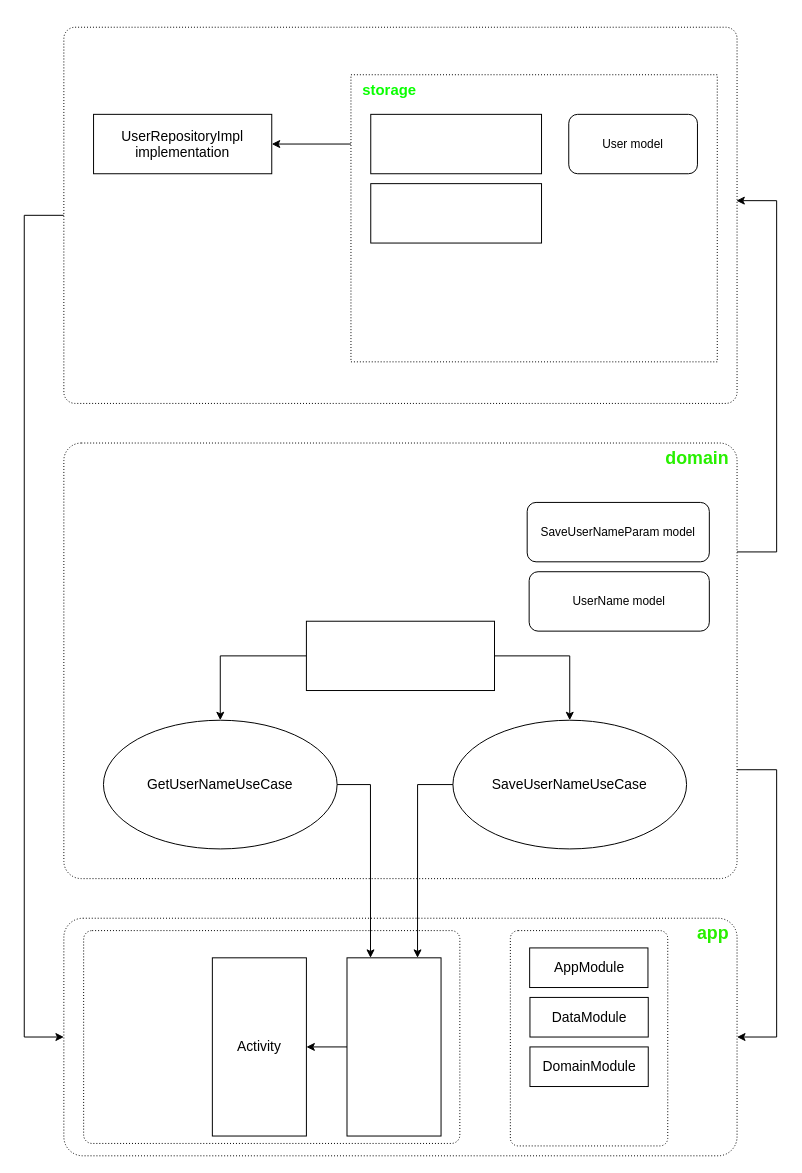
This 802x1173 diagram has some shape labels left out. Here are the shapes that lost their labels. From the top down, the box of each, then its label:
(370, 113, 542, 174): UserStorage interface
(63, 26, 737, 403): data
(370, 183, 542, 243): SharedPrefUserStorage implementation
(305, 620, 495, 691): UserRepository interface
(83, 930, 460, 1143): presentation
(346, 957, 441, 1136): viewModel
(509, 930, 668, 1146): di
